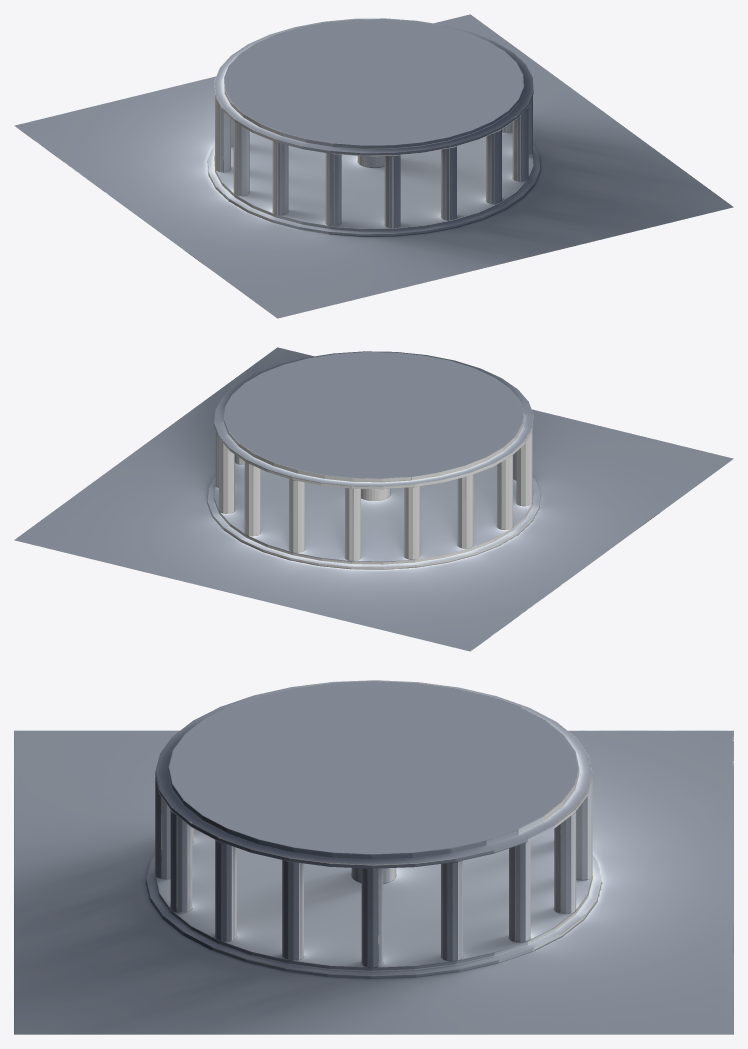
File: world.glb
3 views of the same model, one above another, from view 1: azimuth 30°, elevation 25°; view 2: azimuth 150°, elevation 25°; view 3: azimuth 270°, elevation 25° (orthographic). The views are drawn at different scales.
Parts seen in each view (by area): view 1: Plane; view 2: Plane; view 3: Plane.
Part boxes in pixels (x1,y1,x2,y2): Plane: (14, 14, 733, 318); Plane: (14, 347, 733, 651); Plane: (14, 680, 733, 1034).
Bounding box in the file's own units: 13.17 × 2.32 × 13.17.
Materials: 1 (1 with a texture image).
